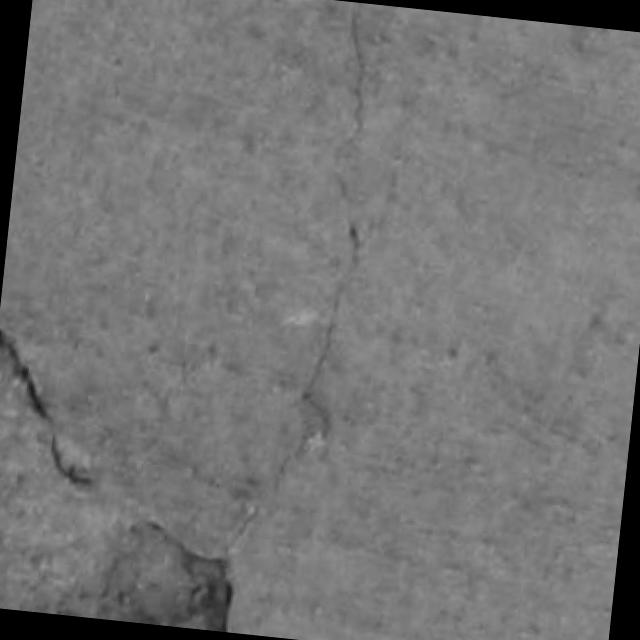crack: (93, 523, 233, 630), (0, 330, 92, 487), (0, 330, 49, 420), (346, 2, 365, 142)
